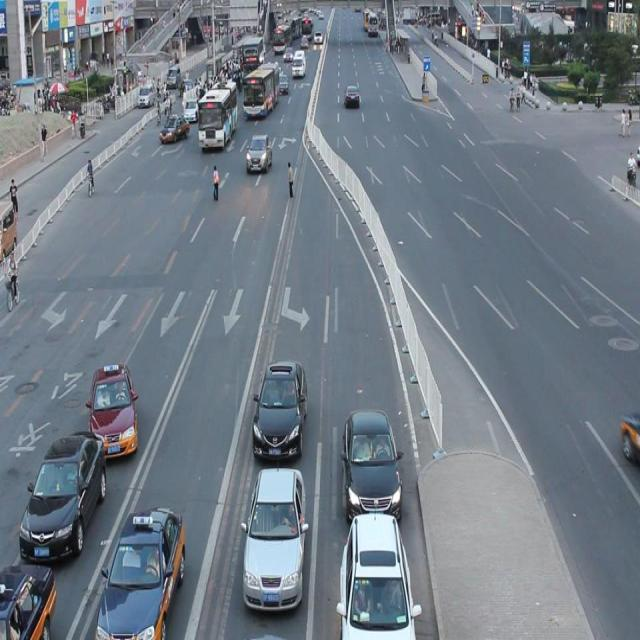car: (93, 501, 186, 640), (19, 426, 109, 562), (338, 508, 417, 640), (242, 461, 306, 610), (340, 410, 402, 526), (252, 354, 308, 460), (88, 360, 139, 459), (1, 558, 57, 640), (245, 133, 272, 173)
